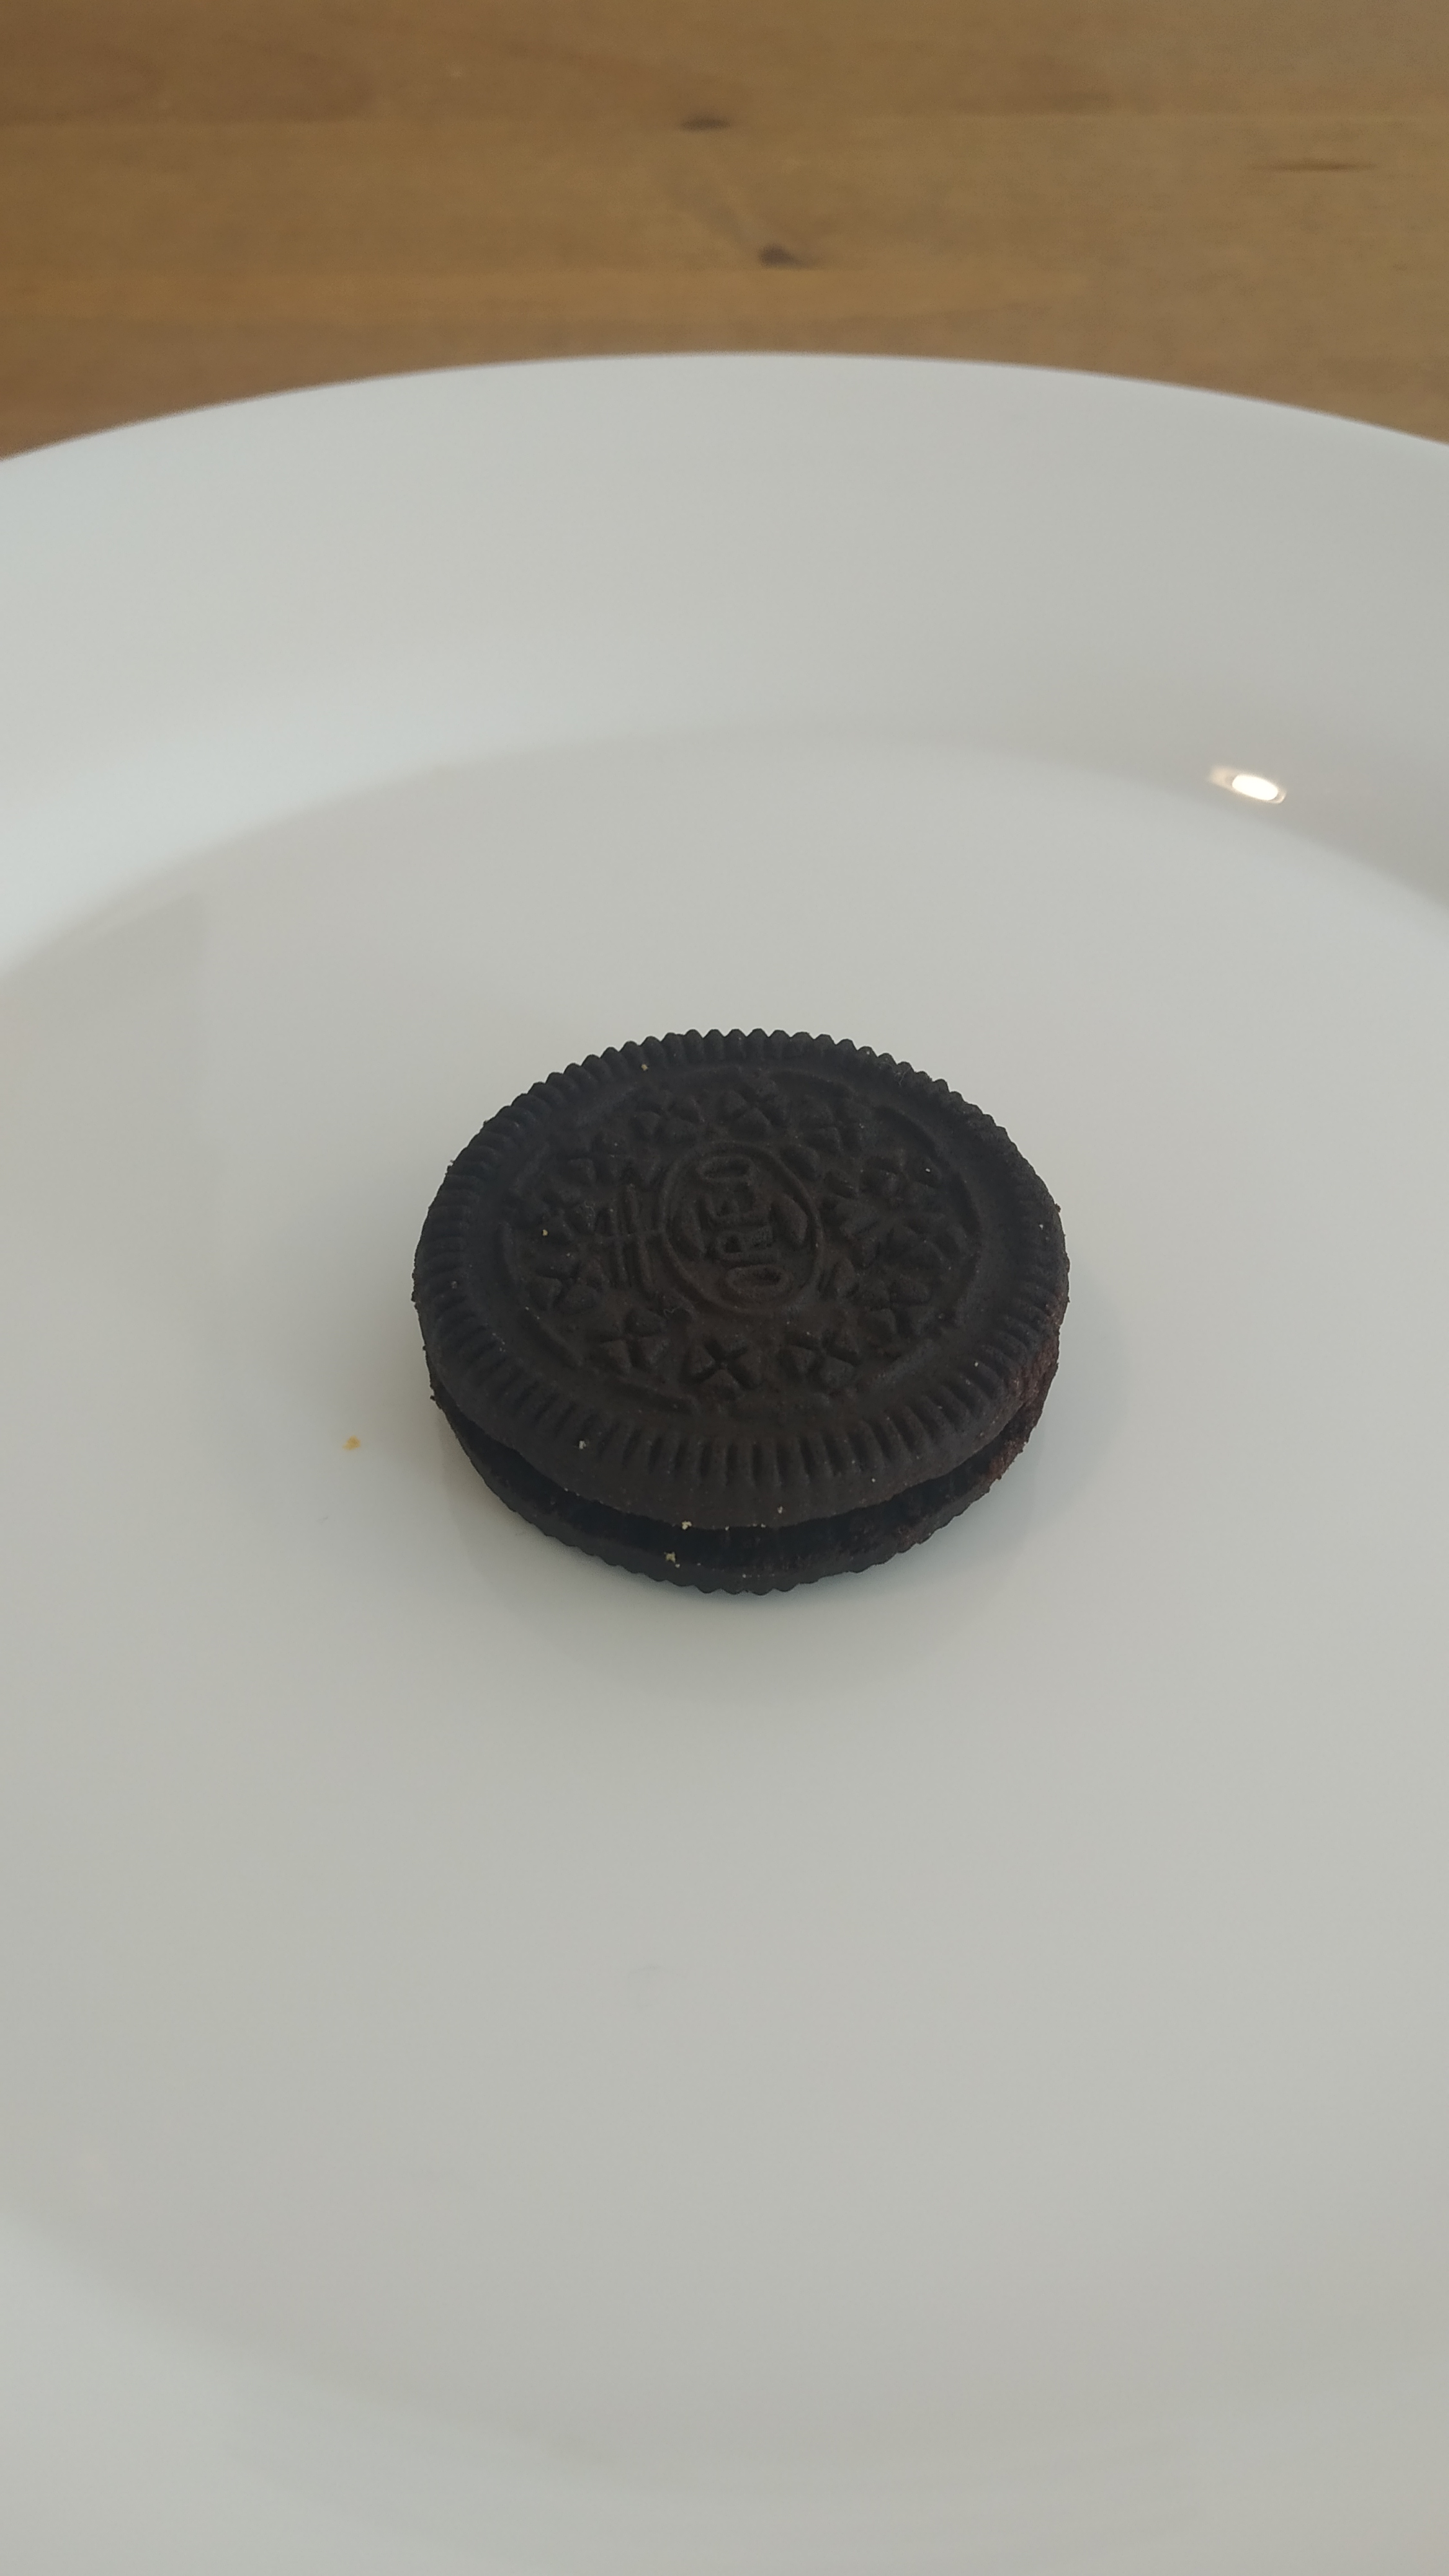oreo: (412, 1028, 1072, 1594)
